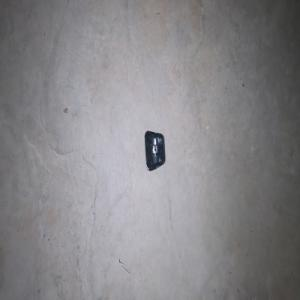LuggagePart: (144, 130, 165, 171)
